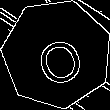O_N: (28, 23, 86, 85)
